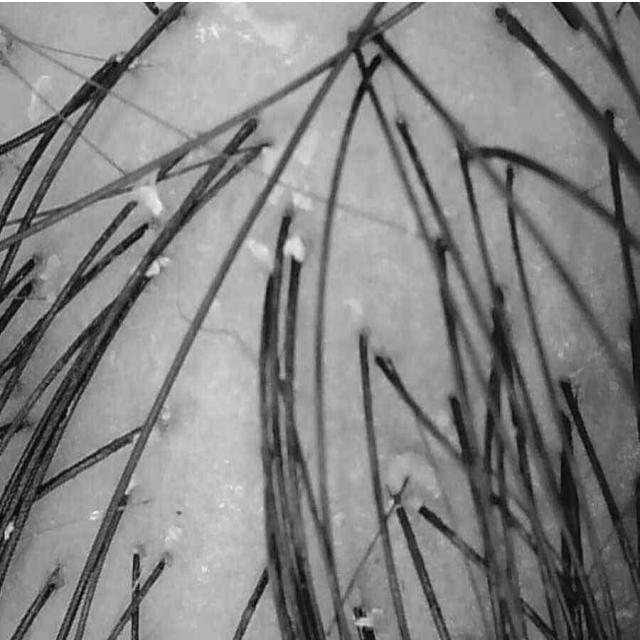d: (383, 449, 446, 502), (130, 180, 164, 218), (280, 235, 310, 267), (283, 188, 316, 217), (246, 235, 271, 266), (403, 494, 429, 522), (354, 608, 384, 628), (145, 260, 161, 277), (4, 521, 14, 541)
o: (626, 232, 640, 254)
